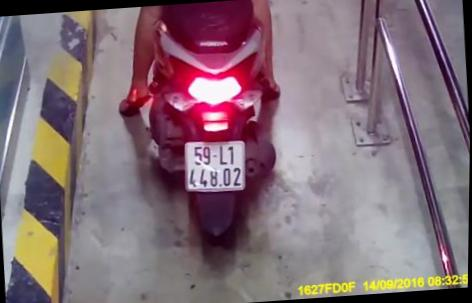LP: (182, 136, 250, 196)
